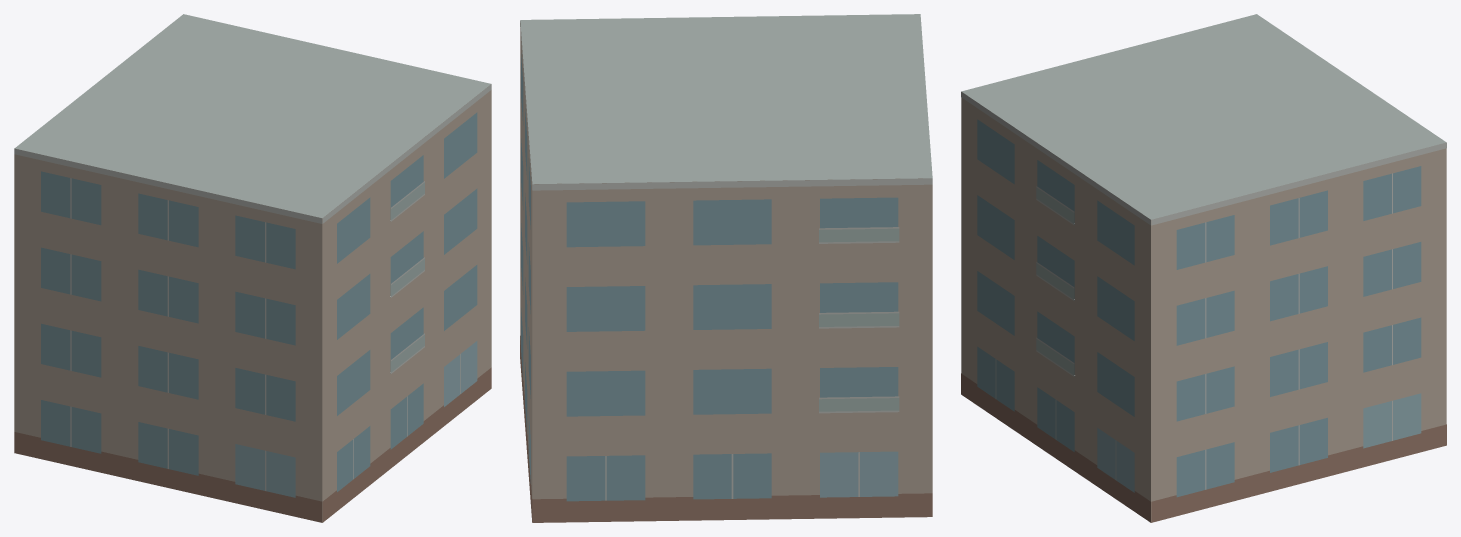
File: survey-upis-32956997.glb
3 views of the same model, side by side, from view 1: azimuth 30°, elevation 25°; view 2: azimuth 150°, elevation 25°; view 3: azimuth 270°, elevation 25° (orthographic). The views are drawn at different scales.
Parts seen in each view (by area): view 1: survey-upis-32956997.tmp; view 2: survey-upis-32956997.tmp; view 3: survey-upis-32956997.tmp.
Boxes of the visible parts, <box> form: survey-upis-32956997.tmp: <box>14,14,491,522</box>; survey-upis-32956997.tmp: <box>520,14,932,522</box>; survey-upis-32956997.tmp: <box>961,14,1446,522</box>.
Bounding box in the file's own units: 18.66 × 12.8 × 18.6.
